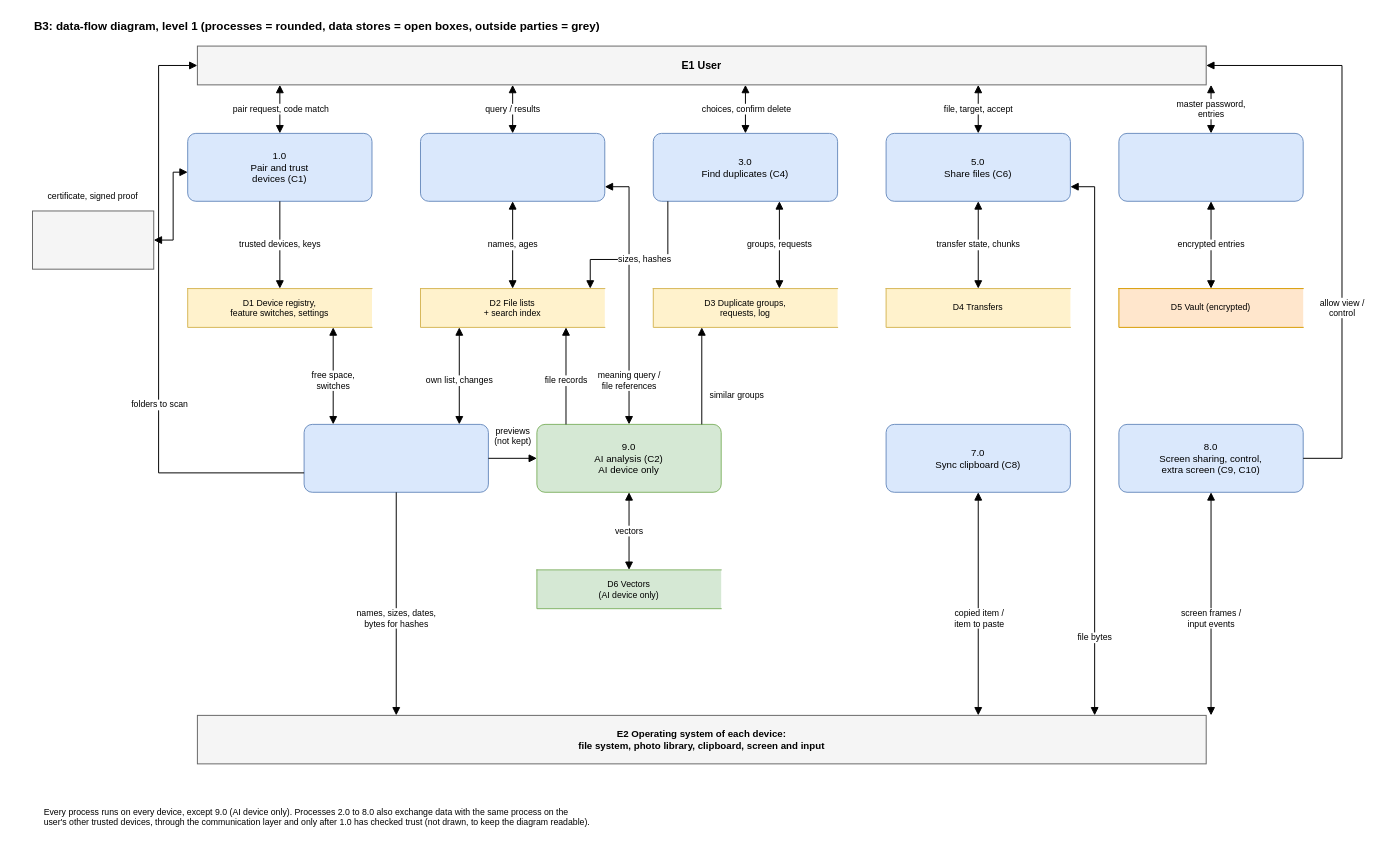
Some shapes in this 1394 by 857 pixel diagram are drawn without their labels. The shapes that lost their labels are listed below. From the top down, each one's centre as x and y in pixels, then its label:
At pixel 512 166: "4.0 Search (C5)".
At pixel 1210 166: "6.0 Manage passwords (C7)".
At pixel 93 239: "E3 New device (not yet paired)".
At pixel 395 457: "2.0 Index files and share lists (C3)".
